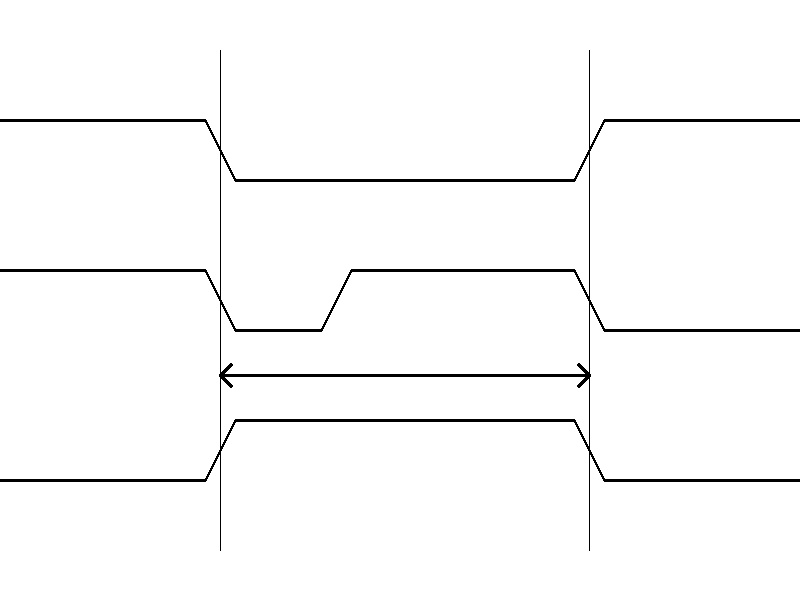double_arrow: (220, 360, 589, 390)
